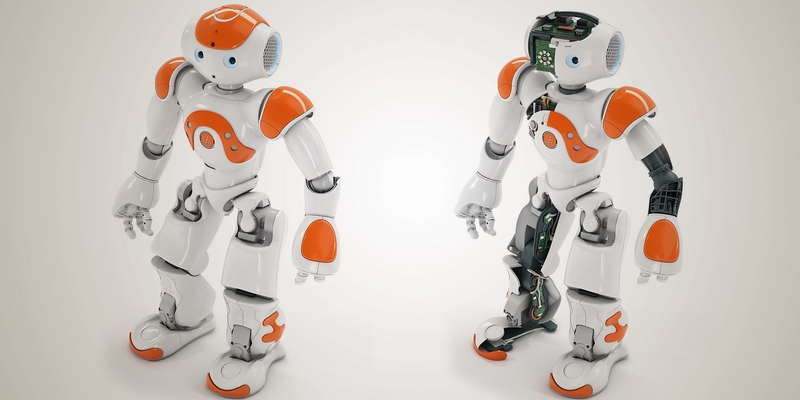nao: (439, 5, 712, 400), (101, 3, 361, 399)
